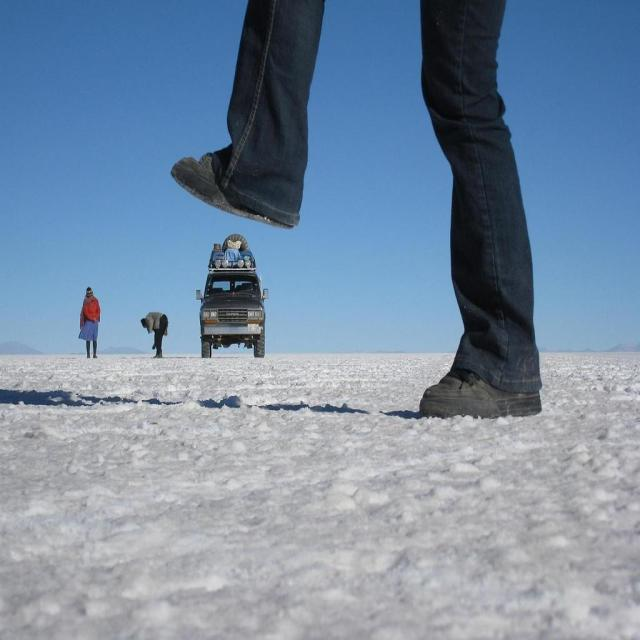car: (195, 255, 267, 354)
